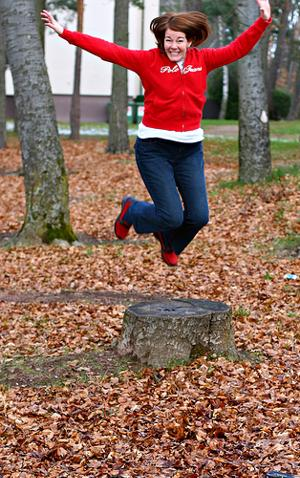person: (40, 6, 272, 269)
